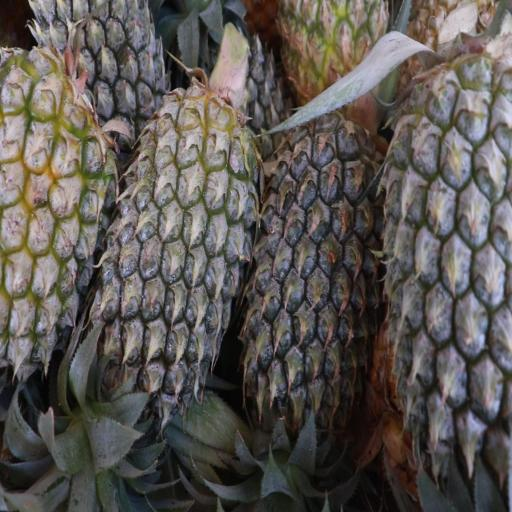------------------------------: (0, 61, 113, 355), (278, 0, 388, 113)
